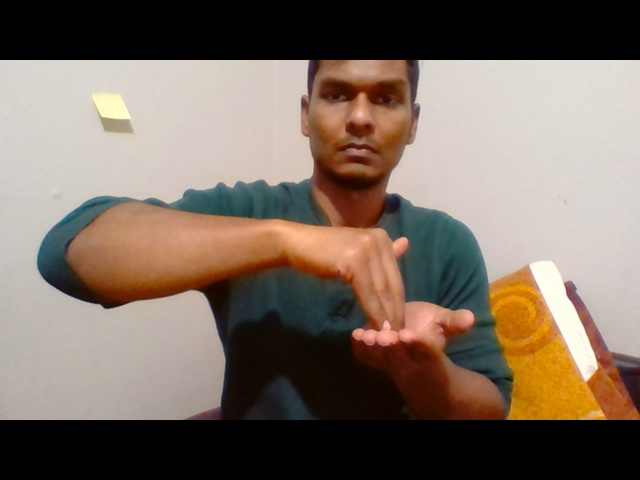ExcuseMe: (283, 218, 480, 379)
